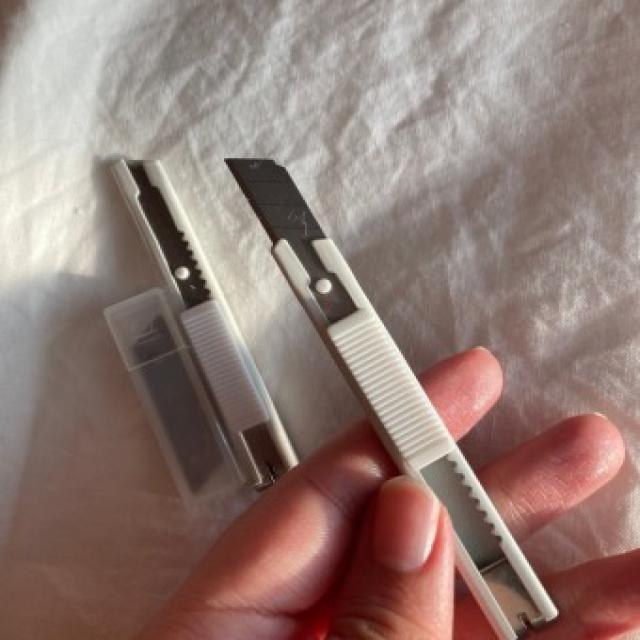cutter: (215, 137, 556, 640)
